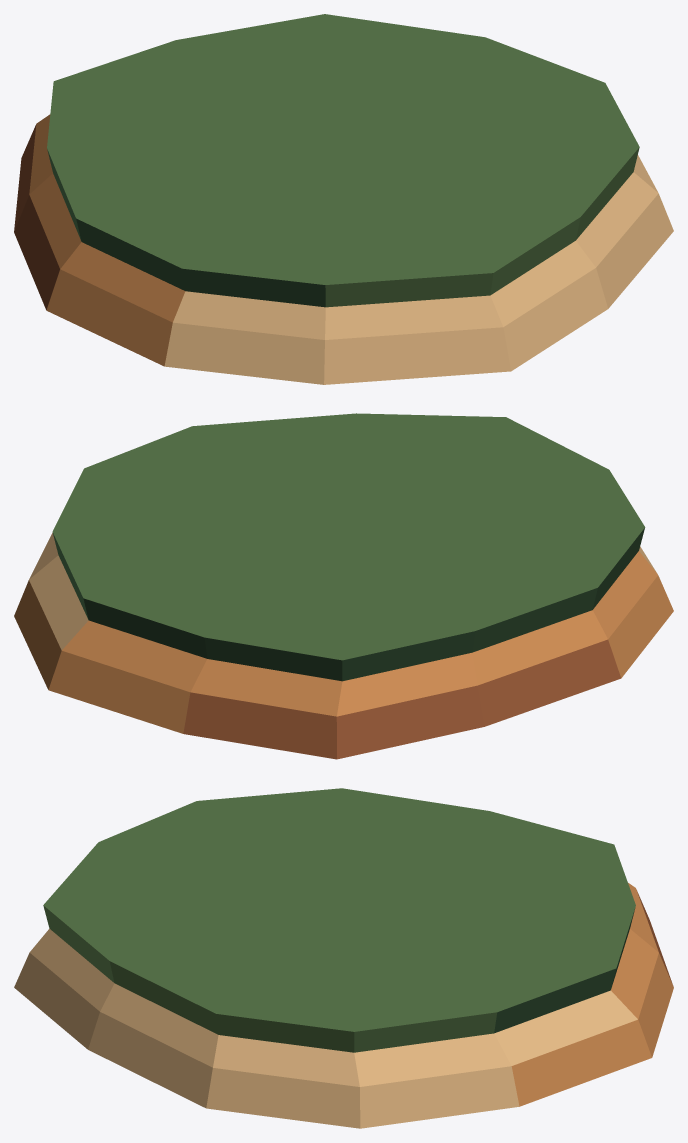
The model's file is rock_largeC.glb.
3 renders of one model, top to bottom at view 1: azimuth 30°, elevation 25°; view 2: azimuth 150°, elevation 25°; view 3: azimuth 270°, elevation 25°, orthographic. The views are drawn at different scales.
Parts seen in each view (by area): view 1: rock_largeC.002; view 2: rock_largeC.002; view 3: rock_largeC.002.
Boxes of the visible parts, box(x1,y1,x2,y2) form: rock_largeC.002: box(14, 14, 673, 384); rock_largeC.002: box(14, 413, 673, 759); rock_largeC.002: box(14, 788, 673, 1128).
Size of the model in its own units: 2.33 by 0.327 by 2.4.
